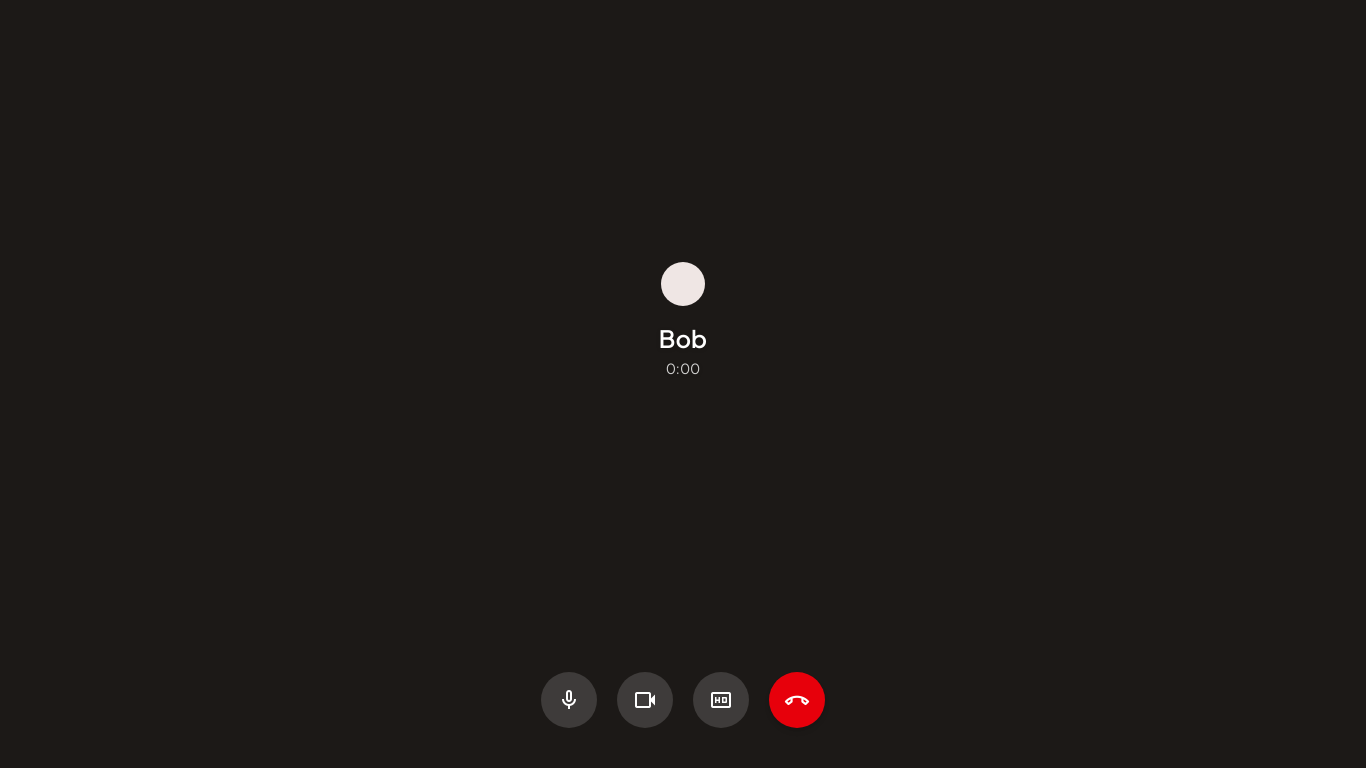
Test: выбор качества видео на экране звонка › меню подписано как касающееся исходящего видео
Click the button named "Video quality".
click(721, 700)  # box [693, 672, 749, 728]
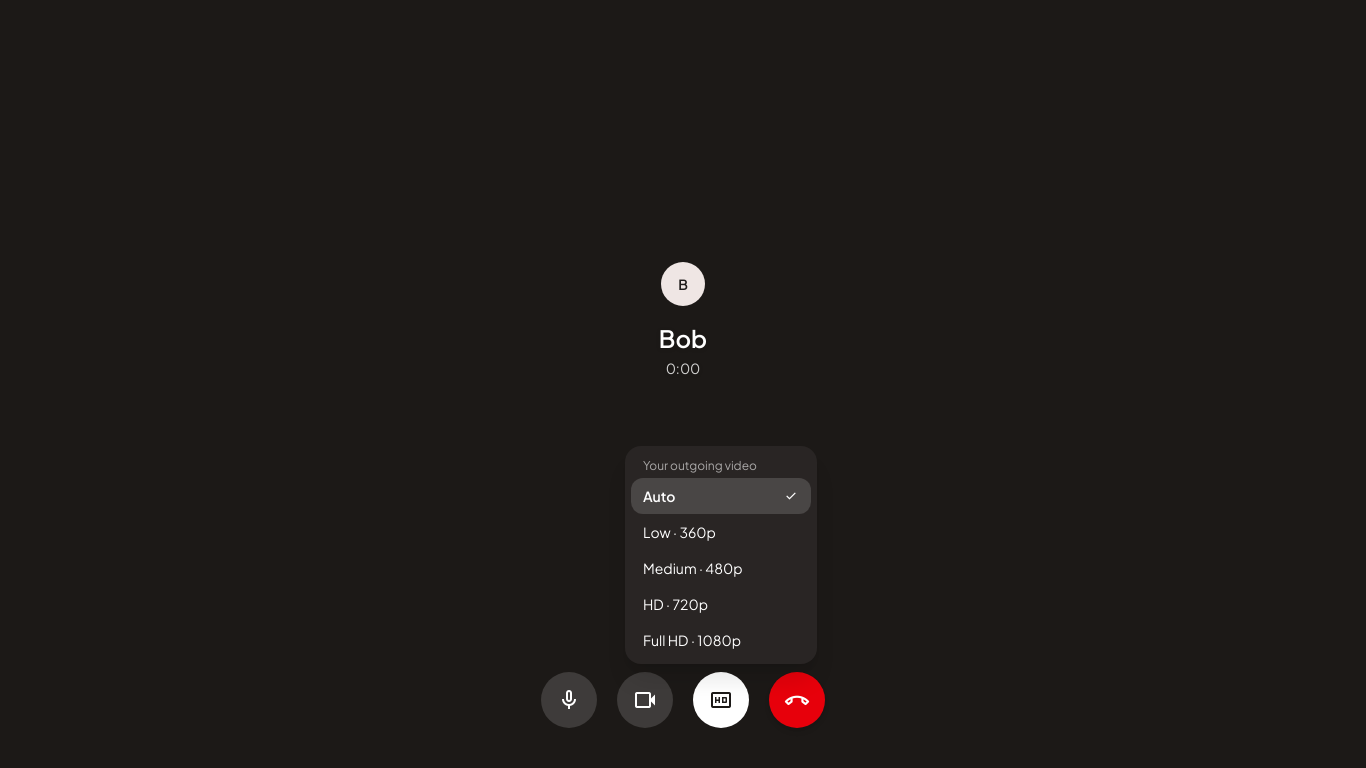
Now the text "Your outgoing video" is shown, box [643, 458, 757, 473]
